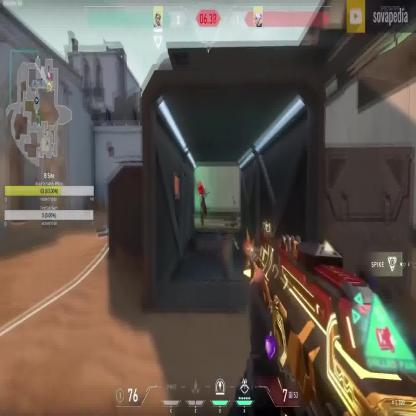enemy: (198, 182, 209, 226)
enemy_head: (203, 185, 206, 193)
